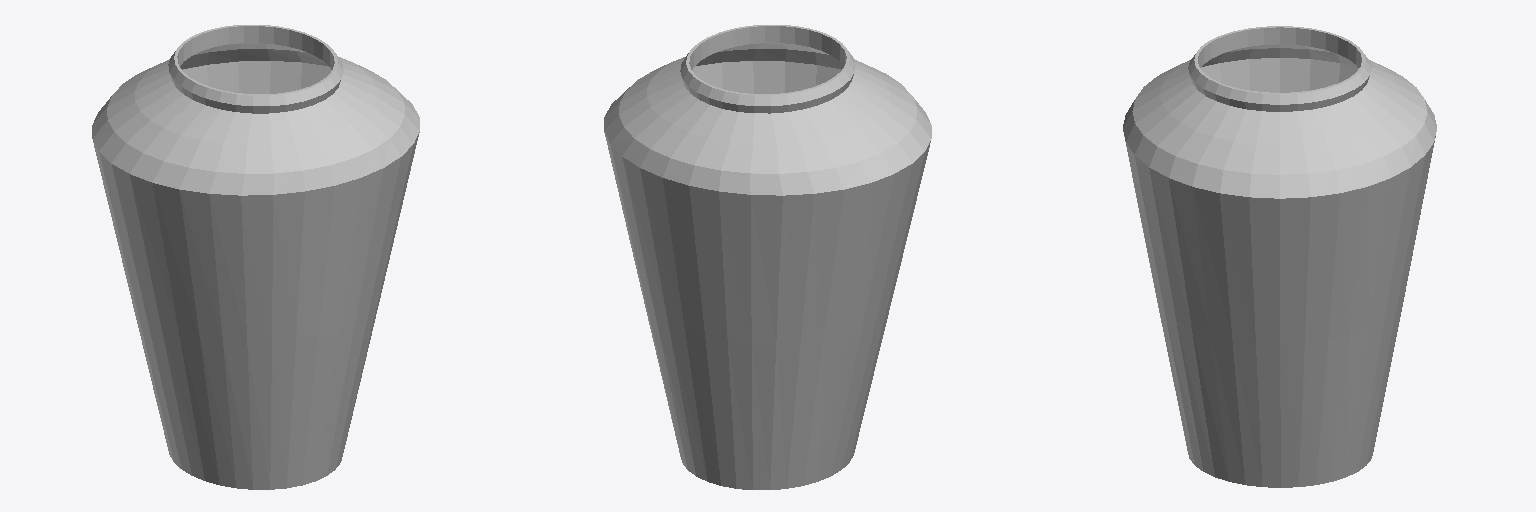
File: Vaso2.obj
3 renders of one model, left to right at view 1: azimuth 30°, elevation 25°; view 2: azimuth 150°, elevation 25°; view 3: azimuth 270°, elevation 25°, orthographic.
Visible parts, largest first — view 1: Cylinder_Cylinder.001; view 2: Cylinder_Cylinder.001; view 3: Cylinder_Cylinder.001.
Boxes of the visible parts, <box> form: Cylinder_Cylinder.001: <box>92,25,419,489</box>; Cylinder_Cylinder.001: <box>604,25,931,489</box>; Cylinder_Cylinder.001: <box>1123,26,1436,487</box>.
Bounding box in the file's own units: 0.7822 × 1.01 × 0.7372.